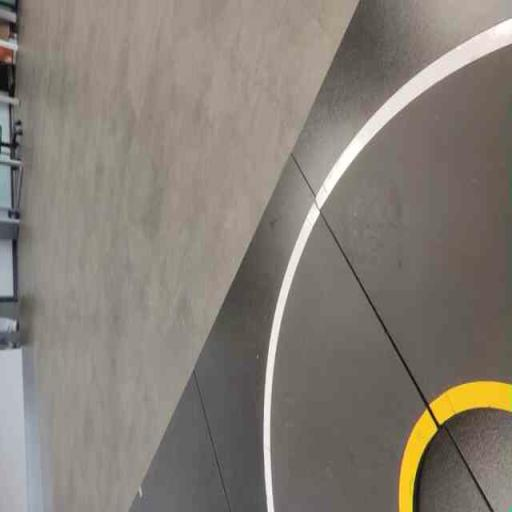left: (225, 16, 511, 511)
